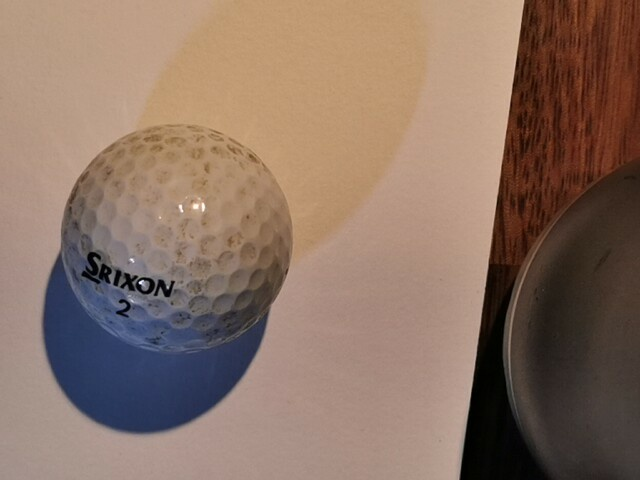Ball: (60, 124, 294, 355)
Srixon: (81, 251, 175, 298)
